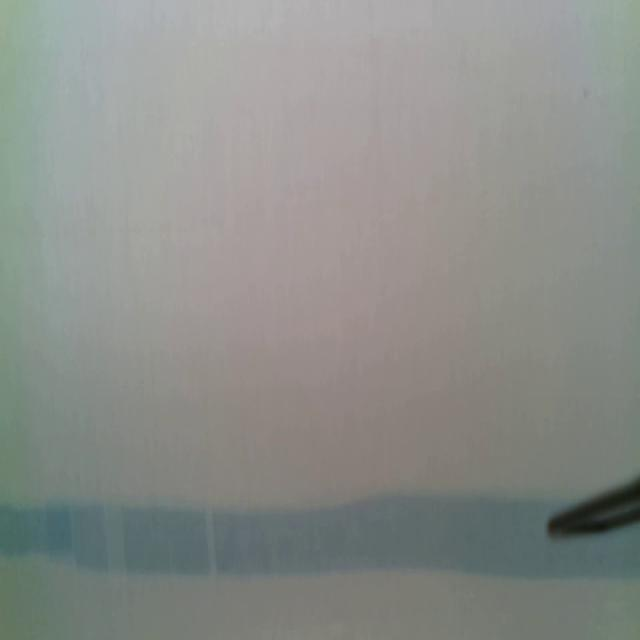color bleeding: (3, 484, 540, 587)
